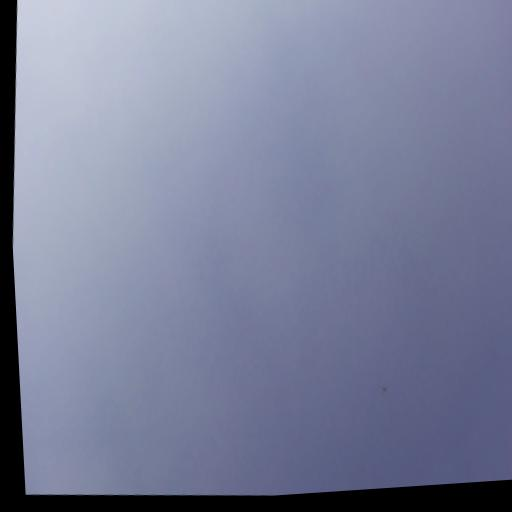drones: (379, 381, 389, 396)
